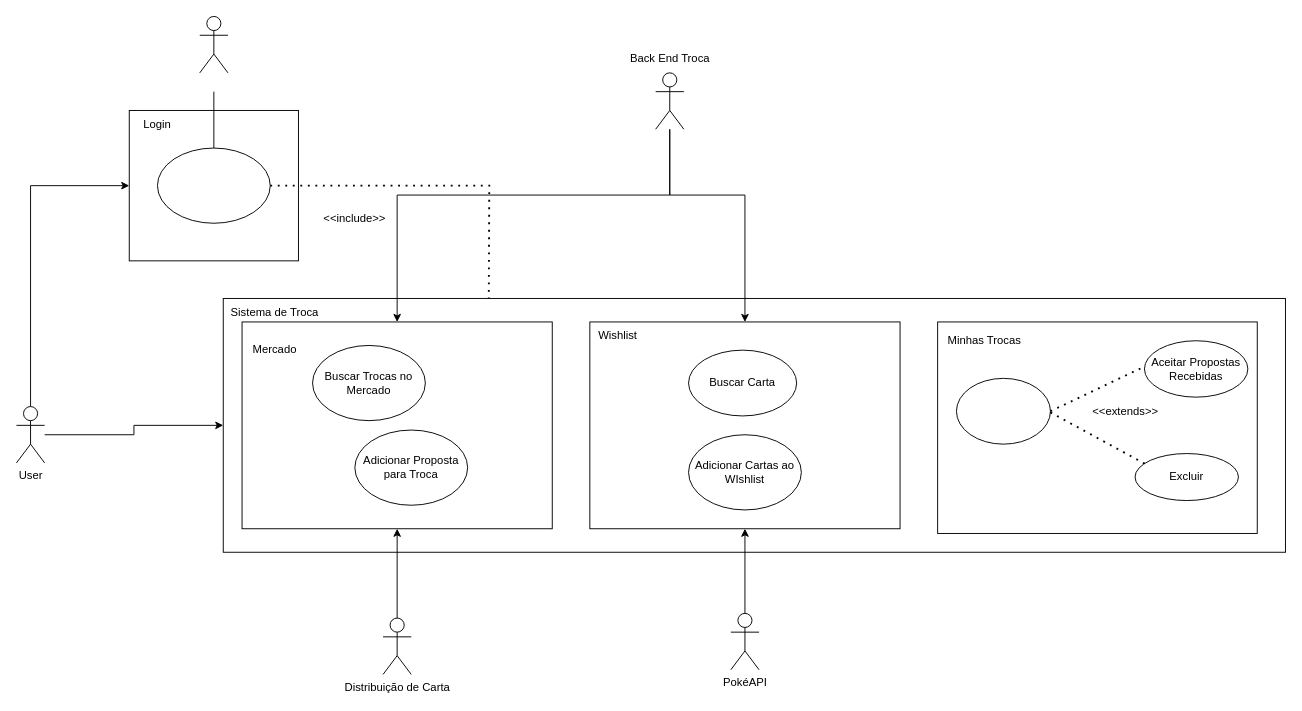
Image size: 1302x711. Some labels were removed from this diagram. Each missing label, with the box of its shape:
Jogadores: (199, 16, 228, 73)
Login de Jogadores: (157, 147, 270, 223)
Visualizar Trocas: (956, 377, 1050, 444)
